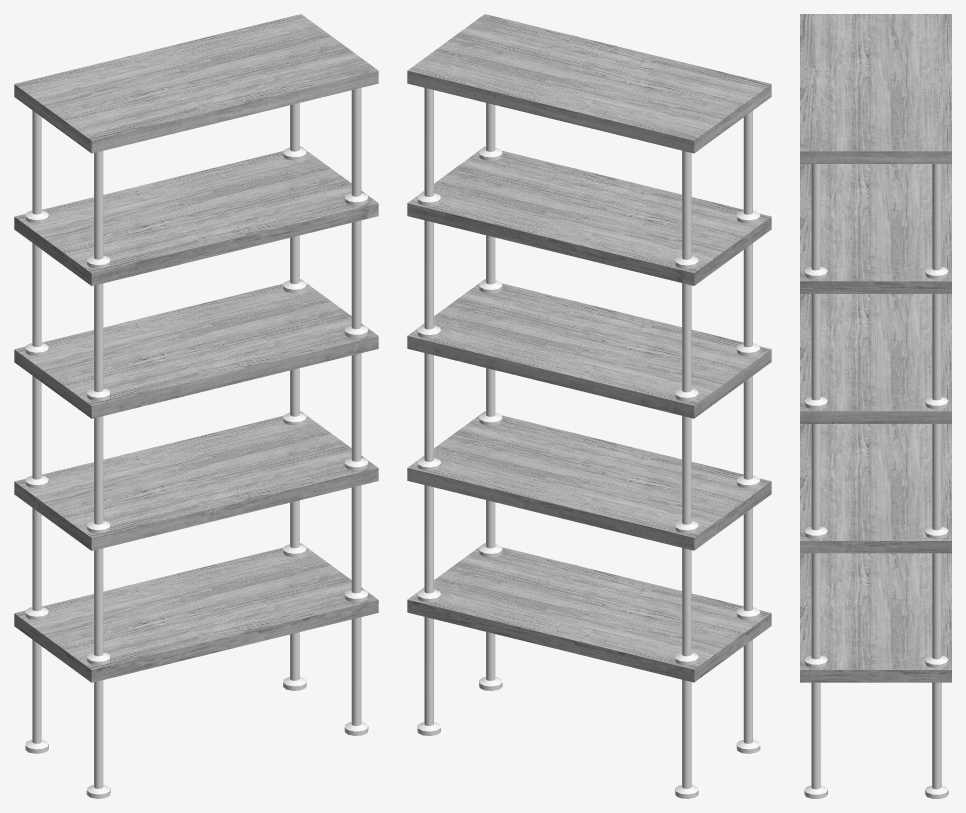
The model's file is Stand.FBX.
3 views of the same model, side by side, from view 1: azimuth 30°, elevation 25°; view 2: azimuth 150°, elevation 25°; view 3: azimuth 270°, elevation 25° (orthographic). The views are drawn at different scales.
Visible parts, largest first — view 1: Stand_B; view 2: Stand_B; view 3: Stand_B.
Part boxes in pixels (x1,y1,x2,y2): Stand_B: [14, 14, 378, 798]; Stand_B: [407, 14, 771, 798]; Stand_B: [800, 14, 951, 798].
Size of the model in its own units: 0.835 by 1.84 by 0.3905.
Materials: 2 (1 with a texture image).
